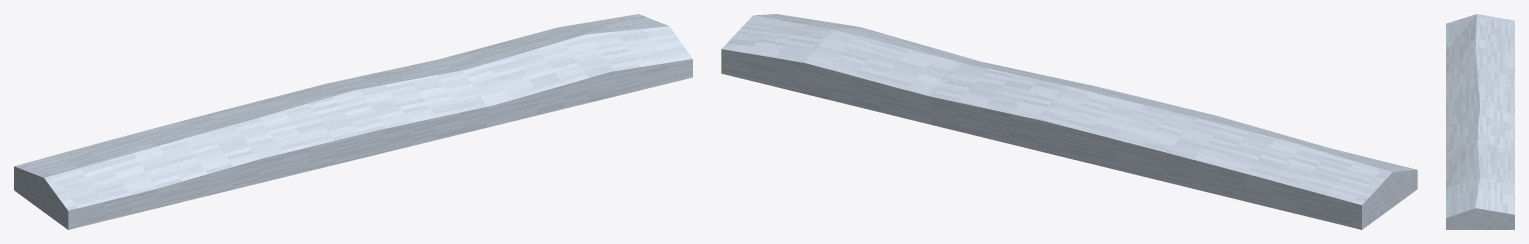
Rendered from snow_roof_edge.glb.
The picture shows the model from 3 angles, left to right: view 1: azimuth 30°, elevation 25°; view 2: azimuth 150°, elevation 25°; view 3: azimuth 270°, elevation 25°; orthographic projection. The views are drawn at different scales.
Parts seen in each view (by area): view 1: snow_roof_edge; view 2: snow_roof_edge; view 3: snow_roof_edge.
Boxes of the visible parts, left/top/right/bottom form: snow_roof_edge: left=14, top=14, right=692, bottom=229; snow_roof_edge: left=721, top=14, right=1417, bottom=229; snow_roof_edge: left=1446, top=14, right=1514, bottom=229.
Bounding box in the file's own units: 2.4 × 0.16 × 0.36.
Materials: 1 (1 with a texture image).
